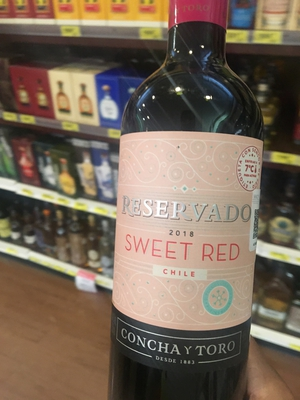reservado sweet red: (93, 11, 275, 397)
